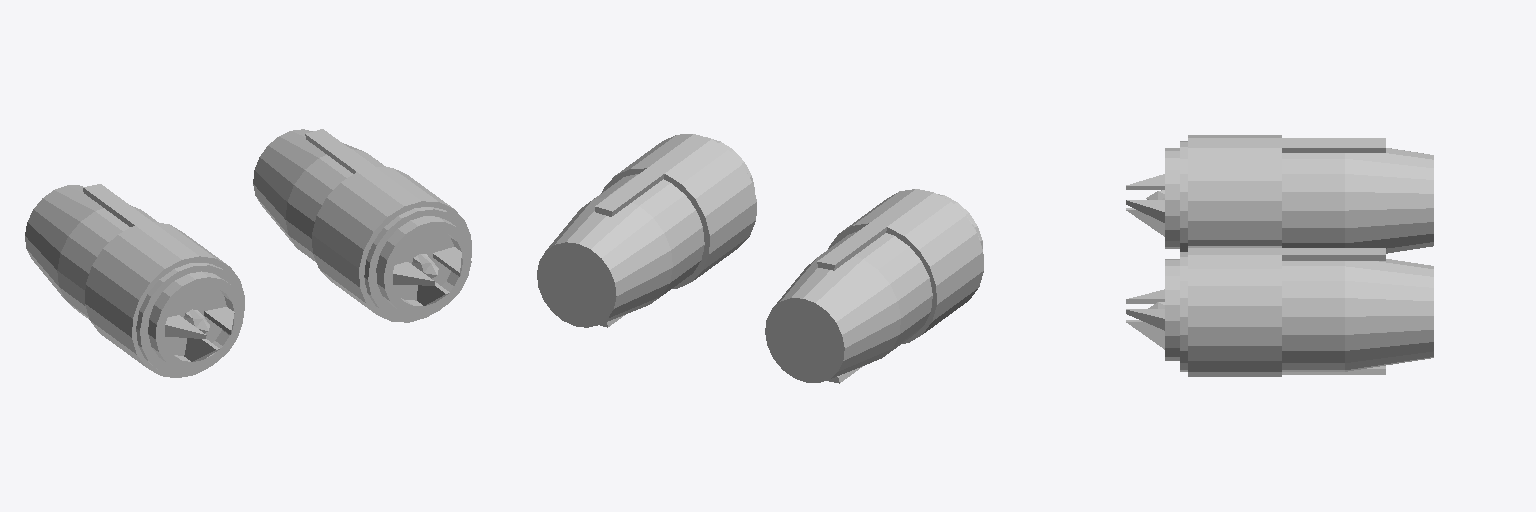
File: G1Engine.obj
The picture shows the model from 3 angles: view 1: azimuth 30°, elevation 25°; view 2: azimuth 150°, elevation 25°; view 3: azimuth 270°, elevation 25°; orthographic projection.
Visible parts, largest first — view 1: polySurface56 polySurface65, polySurface50 polySurface71, polySurface50 polySurface72, polySurface56 polySurface66, polySurface64 polySurface56, polySurface70 polySurface50; view 2: polySurface56 polySurface65, polySurface50 polySurface71, polySurface50 polySurface72, polySurface56 polySurface66; view 3: polySurface50 polySurface71, polySurface56 polySurface65, polySurface50 polySurface72, polySurface56 polySurface66, polySurface70 polySurface50, polySurface64 polySurface56.
Boxes of the visible parts, box(x1,y1,x2,y2) form: polySurface56 polySurface65: box(25, 185, 243, 375); polySurface50 polySurface71: box(253, 129, 471, 320); polySurface50 polySurface72: box(305, 129, 471, 322); polySurface56 polySurface66: box(83, 184, 244, 377); polySurface64 polySurface56: box(148, 271, 242, 371); polySurface70 polySurface50: box(376, 216, 471, 315); polySurface56 polySurface65: box(765, 198, 981, 382); polySurface50 polySurface71: box(537, 173, 747, 327); polySurface50 polySurface72: box(595, 134, 756, 327); polySurface56 polySurface66: box(817, 189, 983, 383); polySurface50 polySurface71: box(1180, 252, 1433, 371); polySurface56 polySurface65: box(1180, 141, 1433, 253); polySurface50 polySurface72: box(1188, 246, 1385, 376); polySurface56 polySurface66: box(1188, 135, 1385, 245); polySurface70 polySurface50: box(1126, 259, 1179, 360); polySurface64 polySurface56: box(1126, 148, 1179, 248).
Bounding box in the file's own units: 4.5 × 1.5 × 3.54.